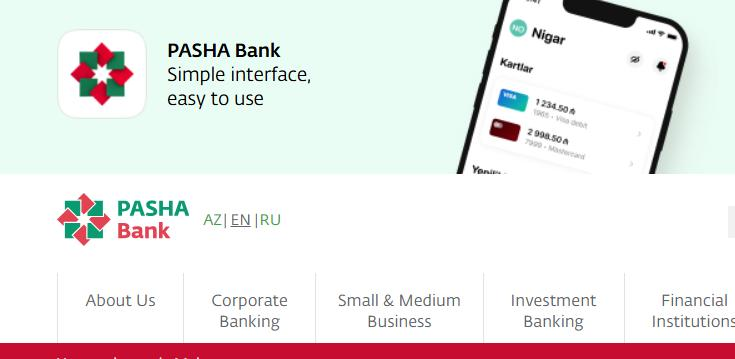Pasha Bank: (67, 40, 135, 108), (55, 191, 110, 247)
